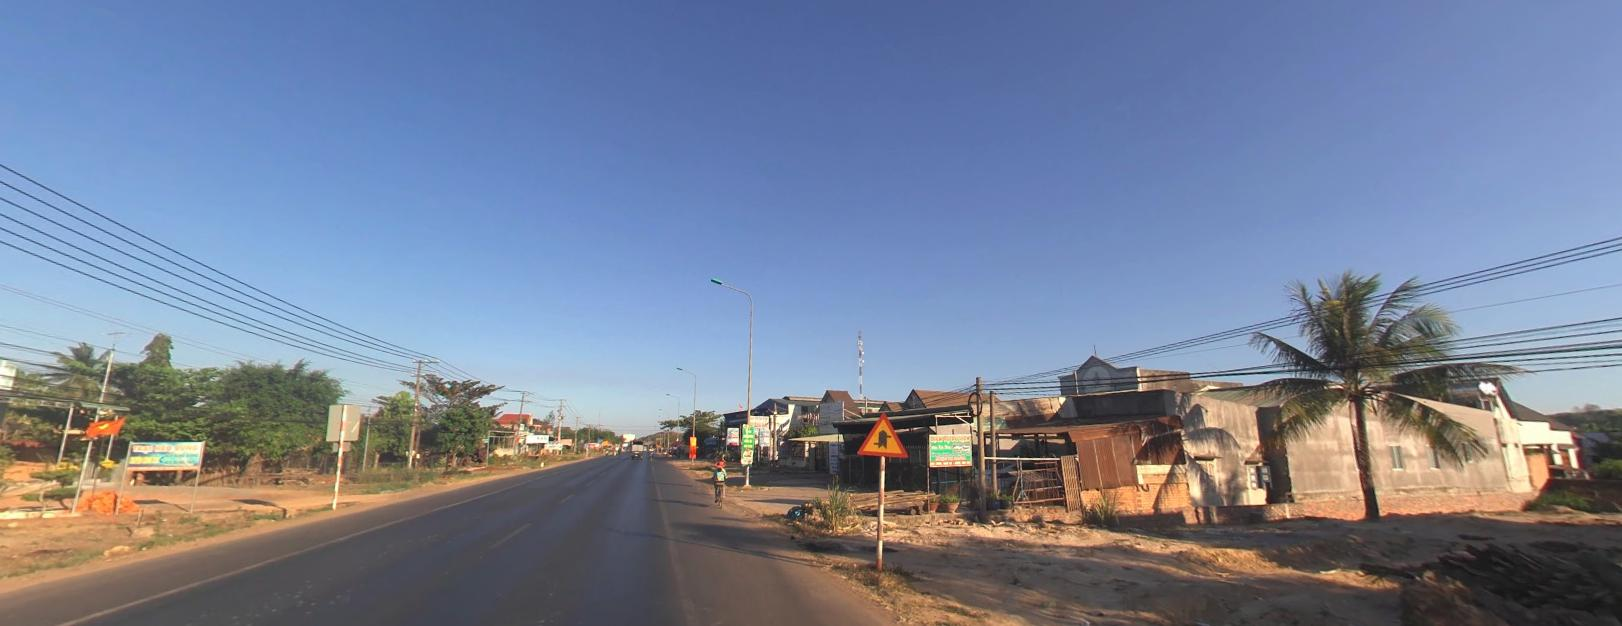Nguy hiem: (857, 409, 910, 458)
